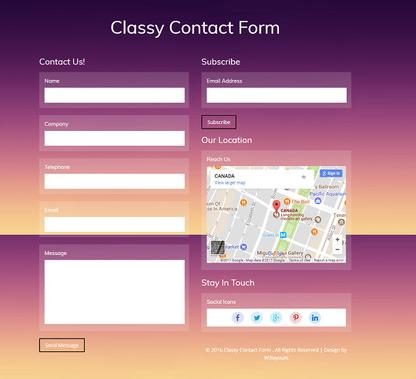button: (37, 336, 86, 353), (200, 113, 238, 130)
field: (42, 258, 186, 326), (205, 86, 348, 106), (44, 86, 186, 105), (44, 129, 186, 148), (41, 215, 187, 233), (42, 172, 186, 190)
